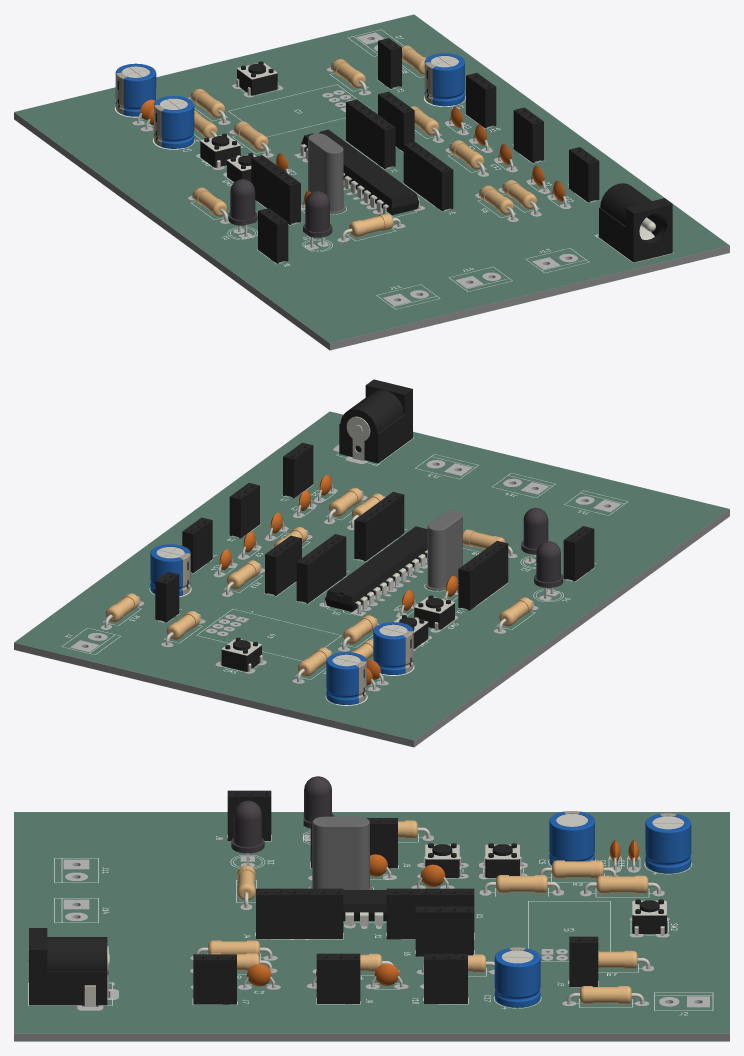
File: arduino.glb
The picture shows the model from 3 angles, top to bottom: view 1: azimuth 30°, elevation 25°; view 2: azimuth 150°, elevation 25°; view 3: azimuth 270°, elevation 25°; orthographic projection. The views are drawn at different scales.
Visible parts, largest first — view 1: R13, =>[0:1:1:16]; view 2: R13, =>[0:1:1:16]; view 3: R13, =>[0:1:1:16].
Part boxes in pixels (x1,y1,x2,y2): R13: (14, 15, 729, 350); =>[0:1:1:16]: (14, 14, 729, 350); R13: (14, 379, 729, 747); =>[0:1:1:16]: (14, 411, 729, 747); R13: (14, 776, 729, 1041); =>[0:1:1:16]: (14, 812, 729, 1041).
Size of the model in its own units: 0.0913 by 0.017 by 0.1248.
Materials: 2 (2 with a texture image).
